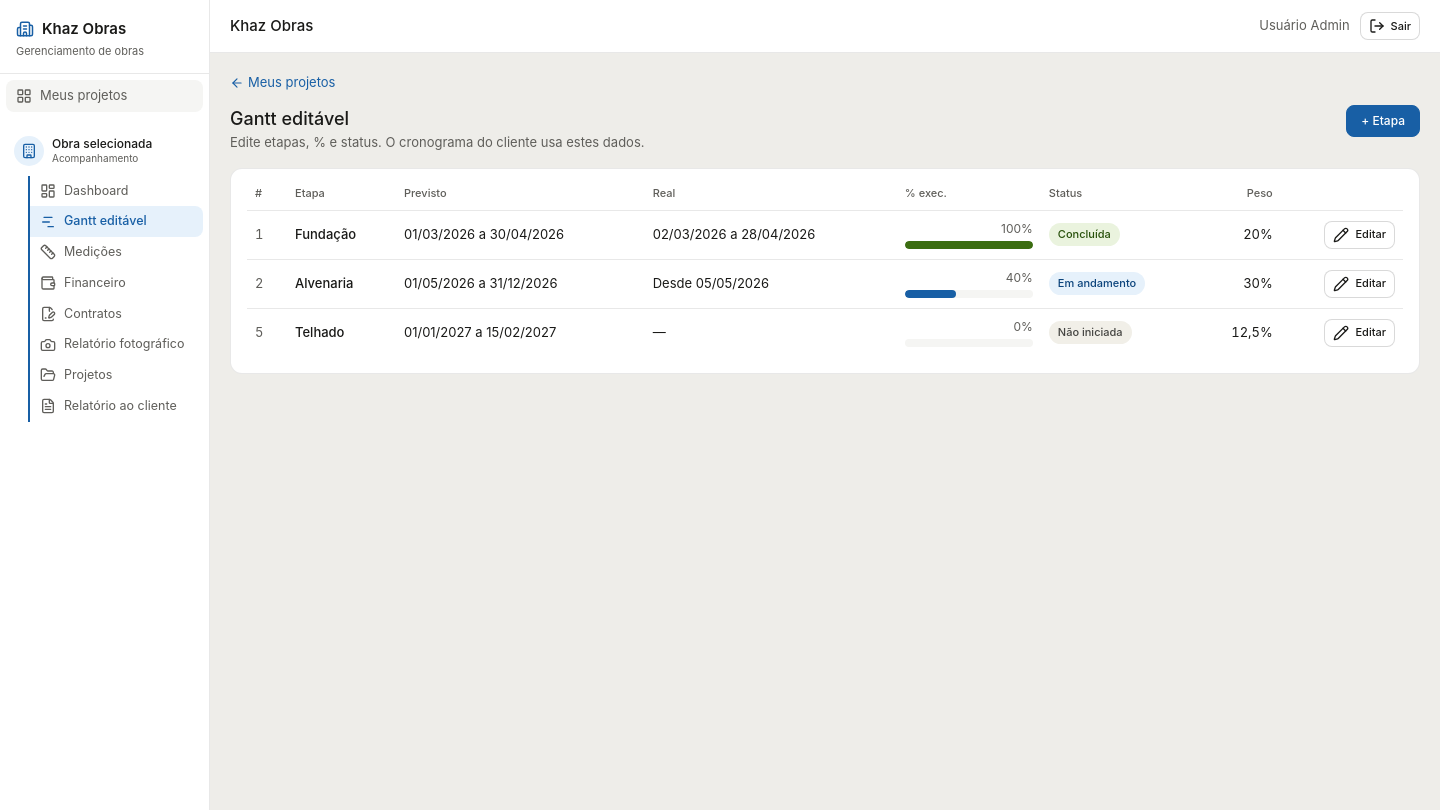
Scenario: Gantt editável: diálogo de edição › abre preenchido com os dados da etapa
This screenshot has width=1440, height=810.
Click the button "Editar" in the row of "Alvenaria": (1360, 284) left=1324, top=270, right=1395, bottom=298
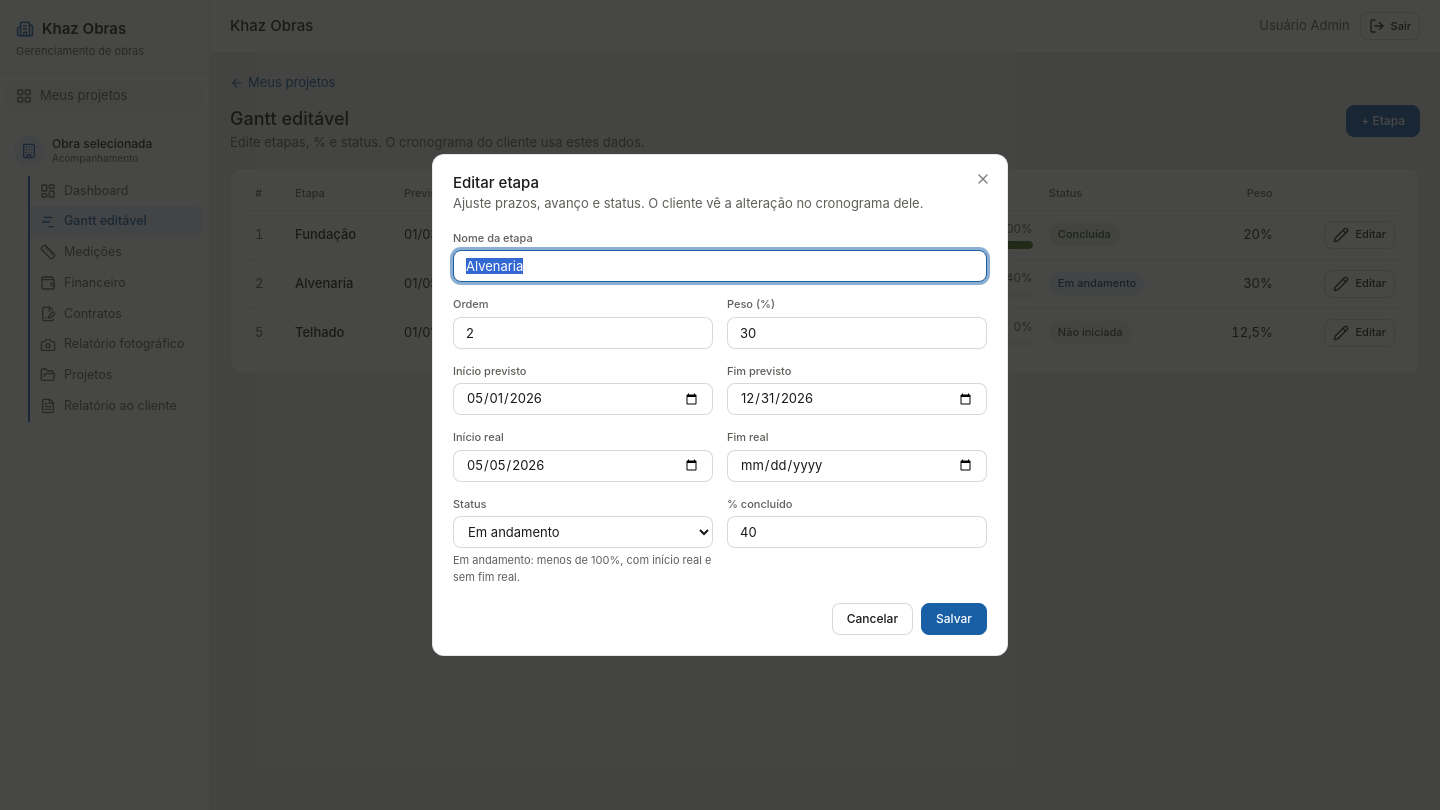
Expected: the field labelled "Nome da etapa" holds "Alvenaria", left=453, top=250, right=987, bottom=282
Expected: the number field labelled "Ordem" holds "2", left=453, top=316, right=713, bottom=348
Expected: the number field labelled "Peso (%)" holds "30", left=727, top=316, right=987, bottom=348
